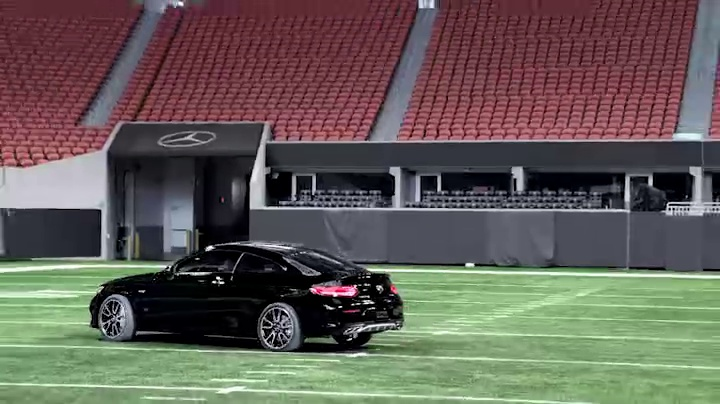amg: (86, 240, 406, 351)
